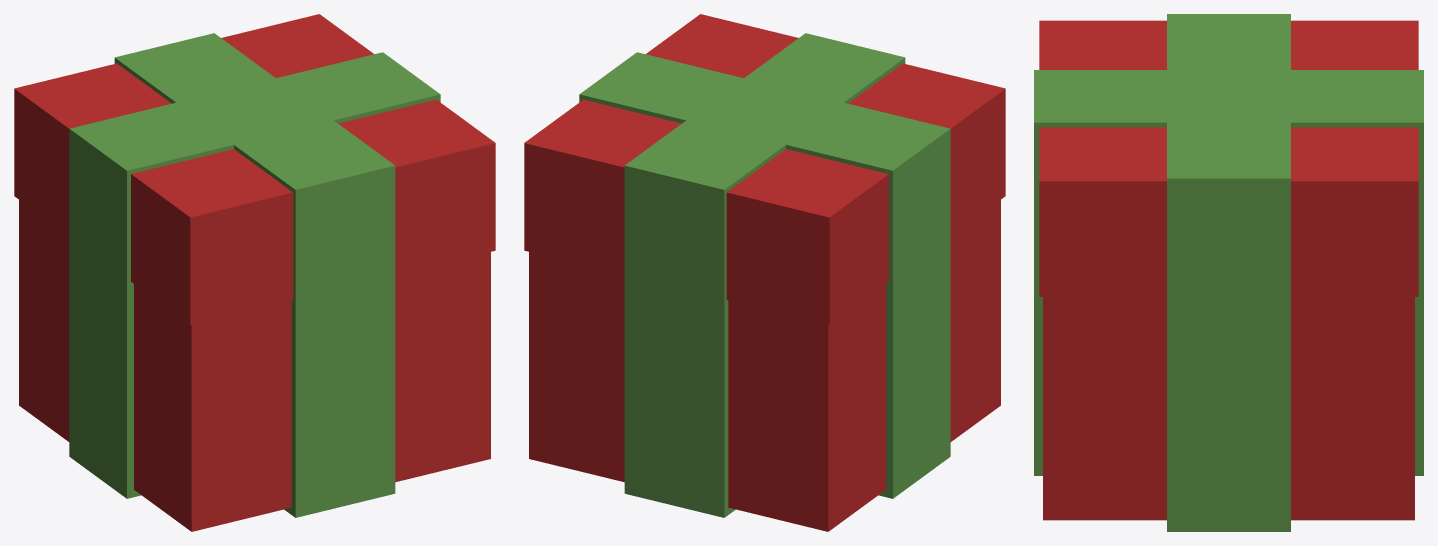
Rendered from cadeau2.dae.
The picture shows the model from 3 angles, left to right: view 1: azimuth 30°, elevation 25°; view 2: azimuth 150°, elevation 25°; view 3: azimuth 270°, elevation 25°; orthographic projection. The views are drawn at different scales.
Parts seen in each view (by area): view 1: Cube; view 2: Cube; view 3: Cube.
Boxes of the visible parts, x1,y1,x2,y2 form: Cube: (14,14,495,531); Cube: (524,14,1005,531); Cube: (1034,14,1423,531).
Bounding box in the file's own units: 52.36 × 52.36 × 52.36.
